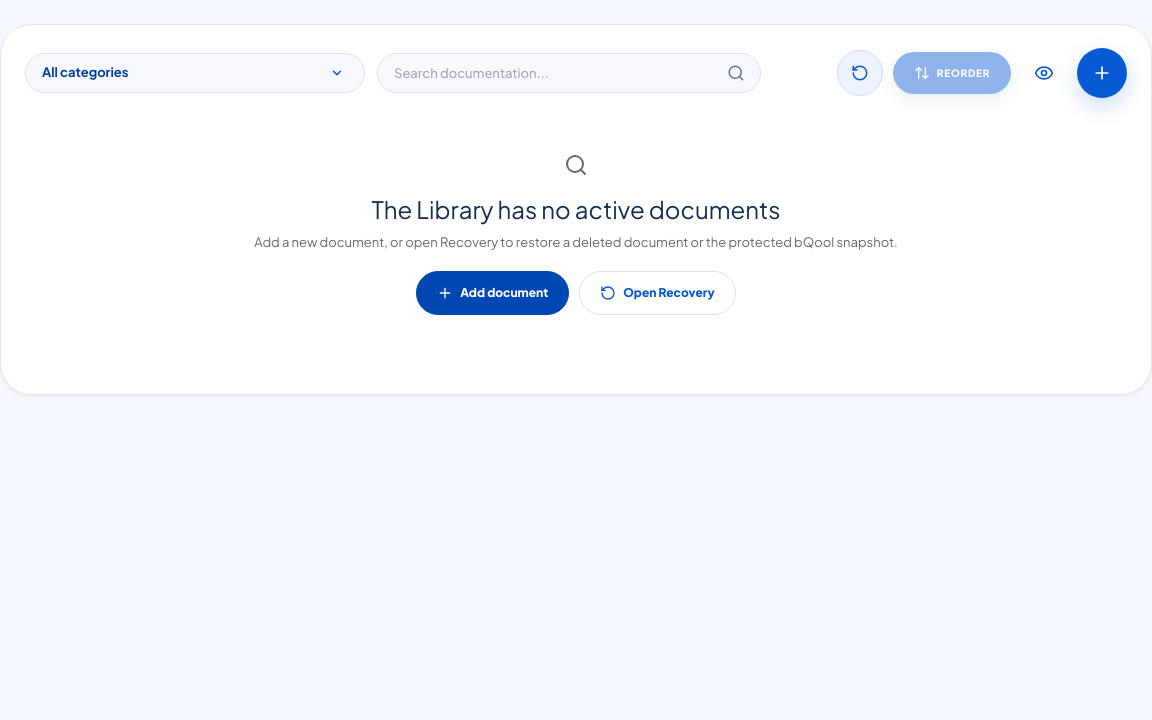
accessible controls › omits tags when adding a new topic
Expected: the button named "Add new topic" is enabled, [1077,48,1127,98]
What coordinates should you click on to do the following:
click the button named "Manage library"
I would click on:
 (1044, 73)
Its box is [1021,50,1067,96].
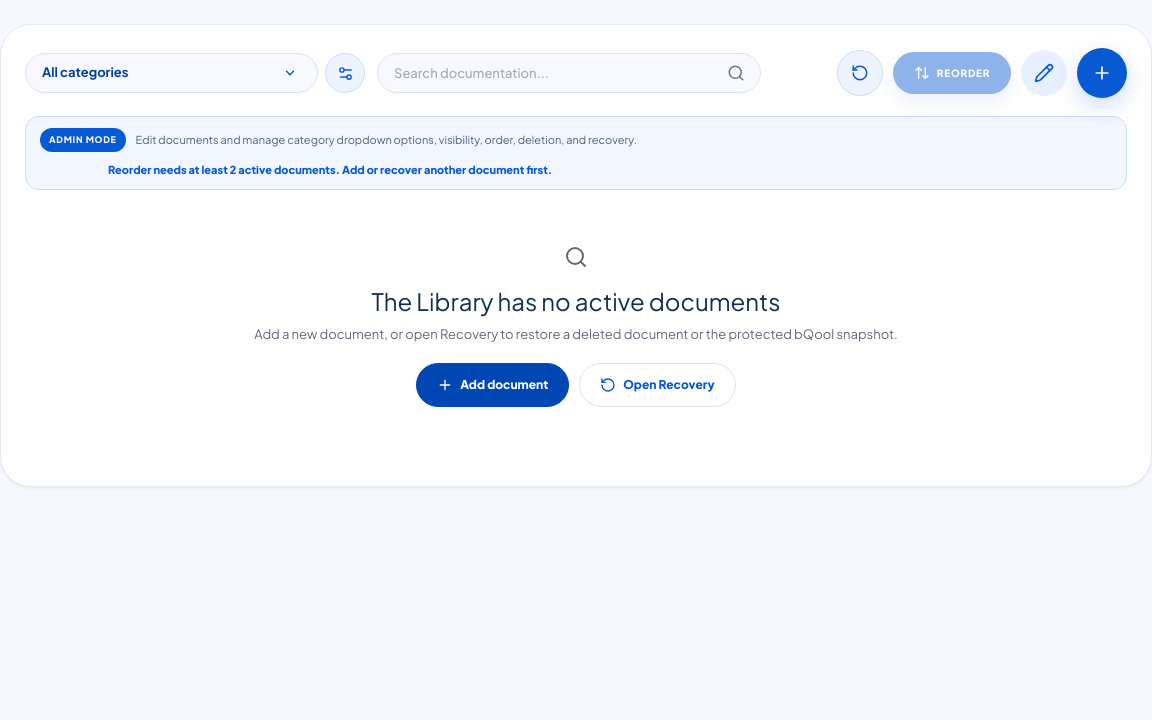
What coordinates should you click on to do the following:
click the button named "Add new topic"
I would click on:
 (1102, 73)
Its box is [1077,48,1127,98].
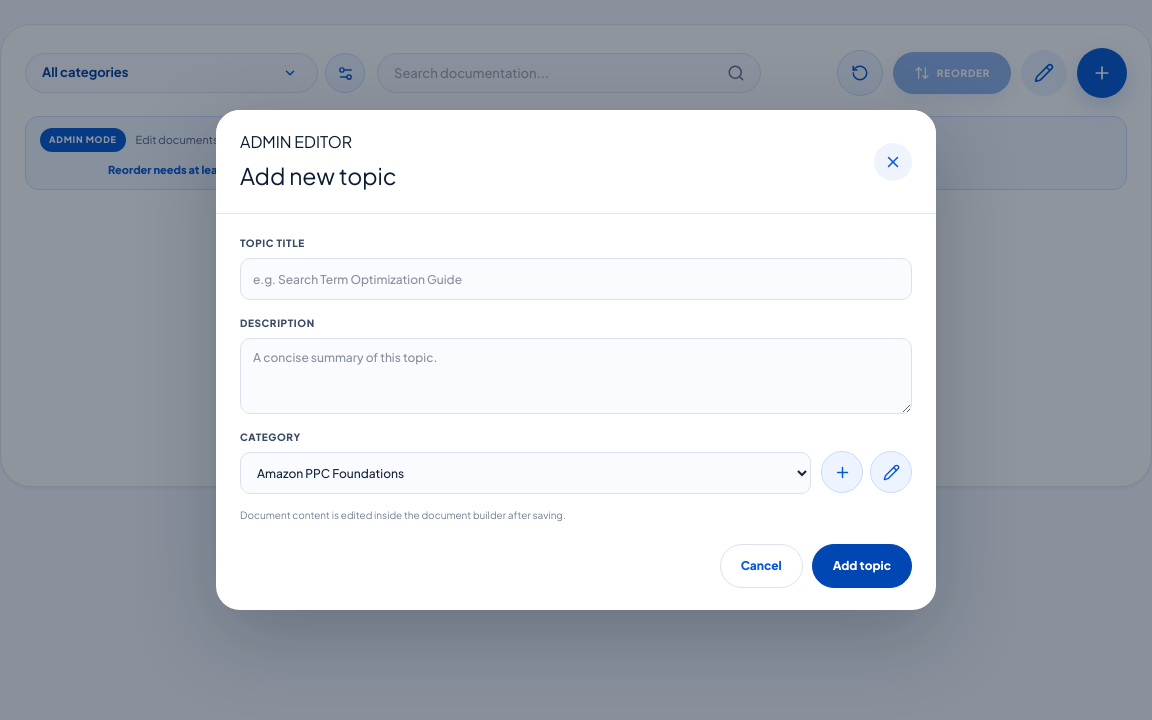
Expected: the dialog "Add new topic" is shown, [216,110,936,610]
